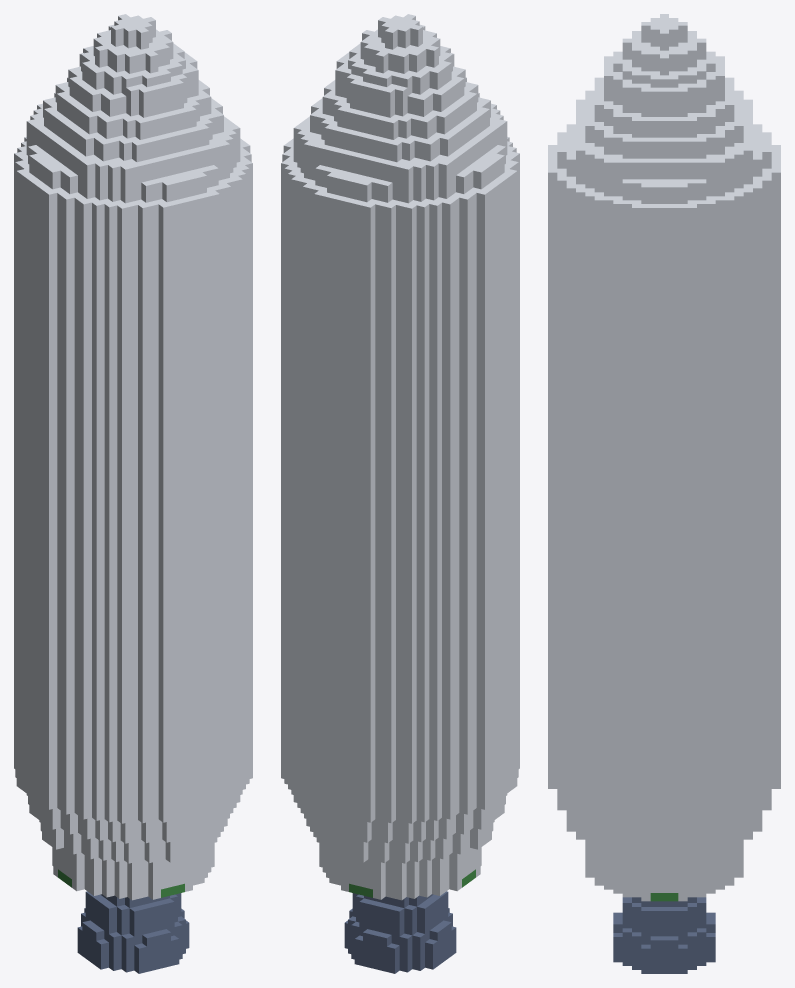
Rendered from Sun_V_fairing_close_with_second_stage.glb.
3 views of the same model, side by side, from view 1: azimuth 30°, elevation 25°; view 2: azimuth 150°, elevation 25°; view 3: azimuth 270°, elevation 25° (orthographic).
Visible parts, largest first — view 1: ObjObject.032; view 2: ObjObject.032; view 3: ObjObject.032.
Boxes of the visible parts, box(x1,y1,x2,y2) form: ObjObject.032: box(14, 14, 252, 973); ObjObject.032: box(281, 14, 519, 973); ObjObject.032: box(548, 14, 780, 973).
Bounding box in the file's own units: 2.5 × 11 × 2.5.
Materials: 1 (1 with a texture image).
